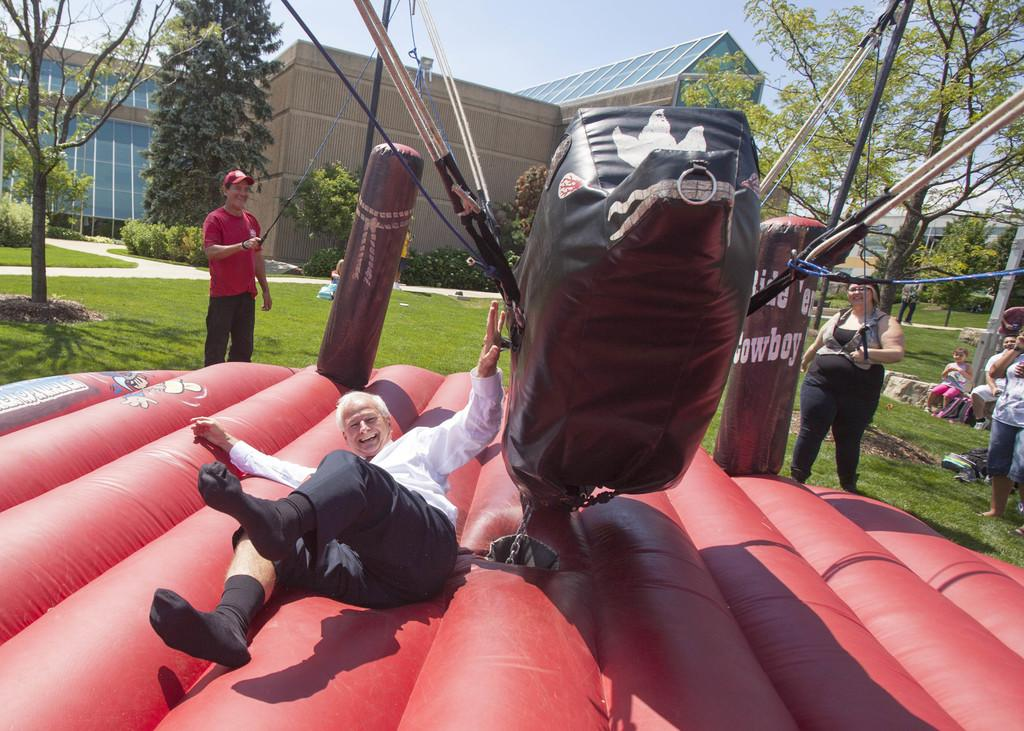Luggage-and-bags: (940, 449, 974, 478), (964, 446, 993, 480), (322, 284, 334, 301)
